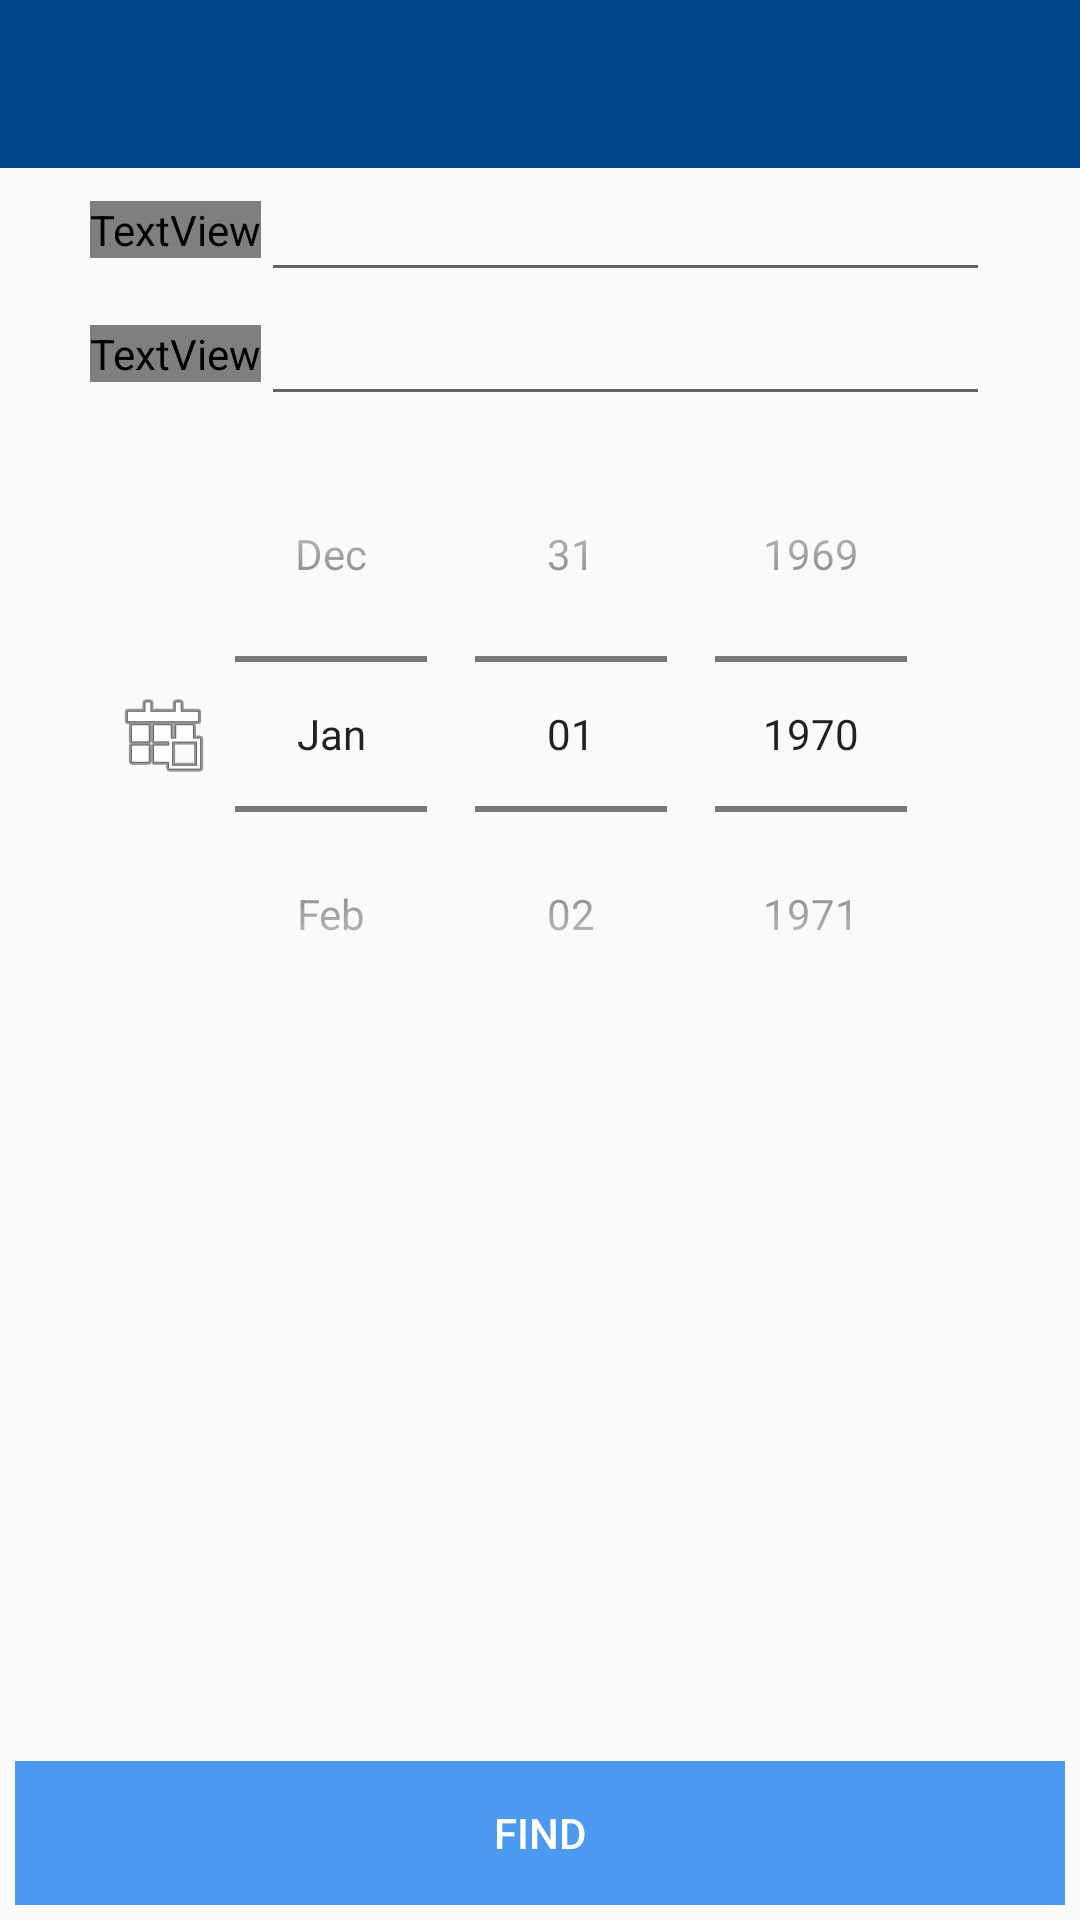

Screen size 1080 x 1920. Icon name, then its box in pixels as (x1, y1, x2, y2):
today: (125, 699, 203, 772)
